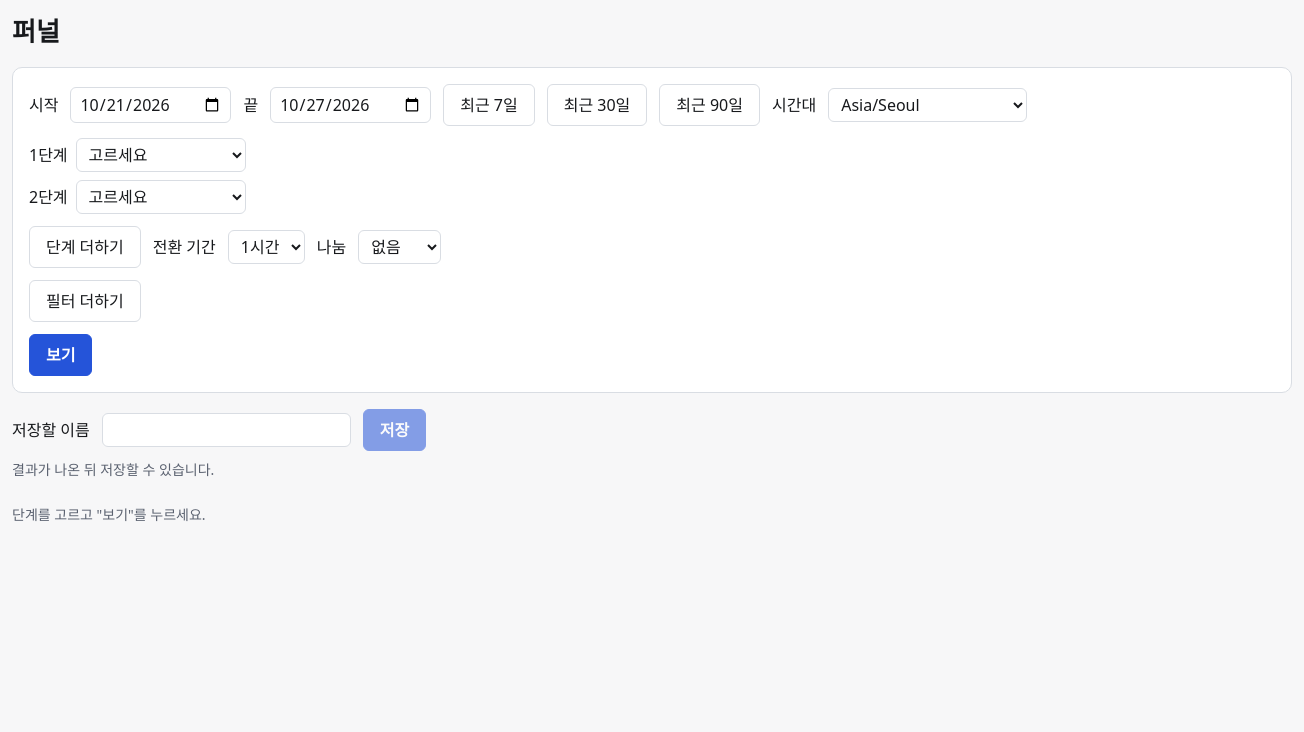
Test: FunnelsPage › 고른 단계·전환 기간을 보내고, 단계별 수와 전환율, 첫 진입 기준 설명, 열린 전환 기간을 보인다
Select "list_viewed" in the dropdown labelled "1단계". click: (161, 155)
box: top-left (76, 138), bottom-right (246, 172)
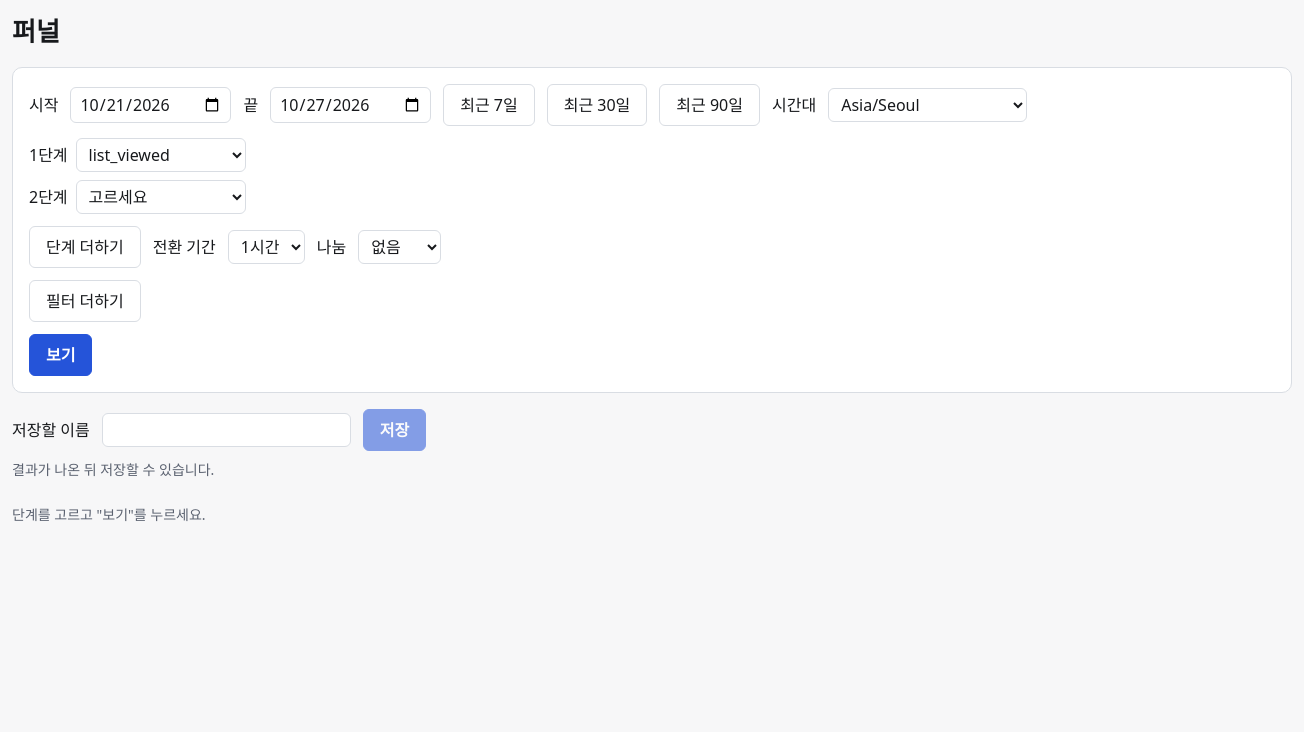
Select "seat_map_viewed" in the dropdown labelled "2단계". click: (161, 197)
box: top-left (76, 180), bottom-right (246, 214)
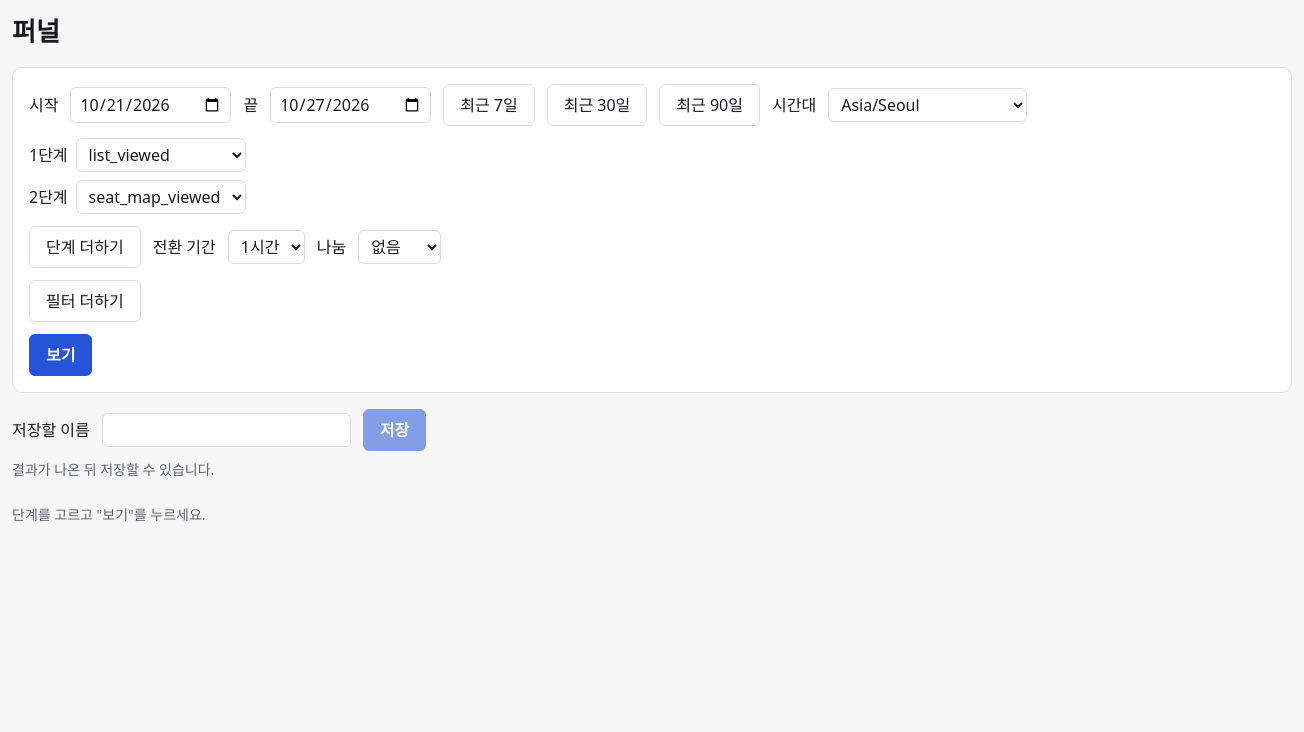
Select "1일" in the dropdown labelled "전환 기간". click: (266, 247)
box: top-left (228, 230), bottom-right (305, 264)
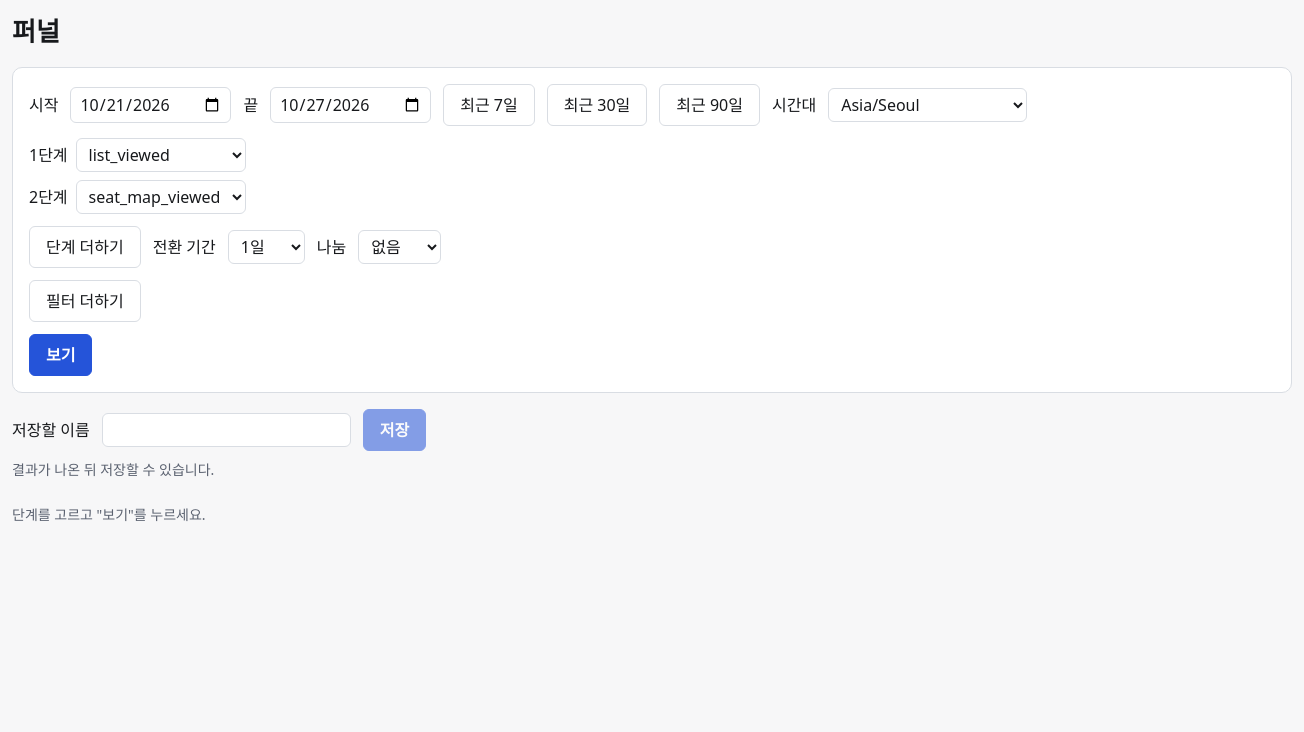
Click the button "보기". click: (61, 355)
box: top-left (29, 334), bottom-right (92, 376)
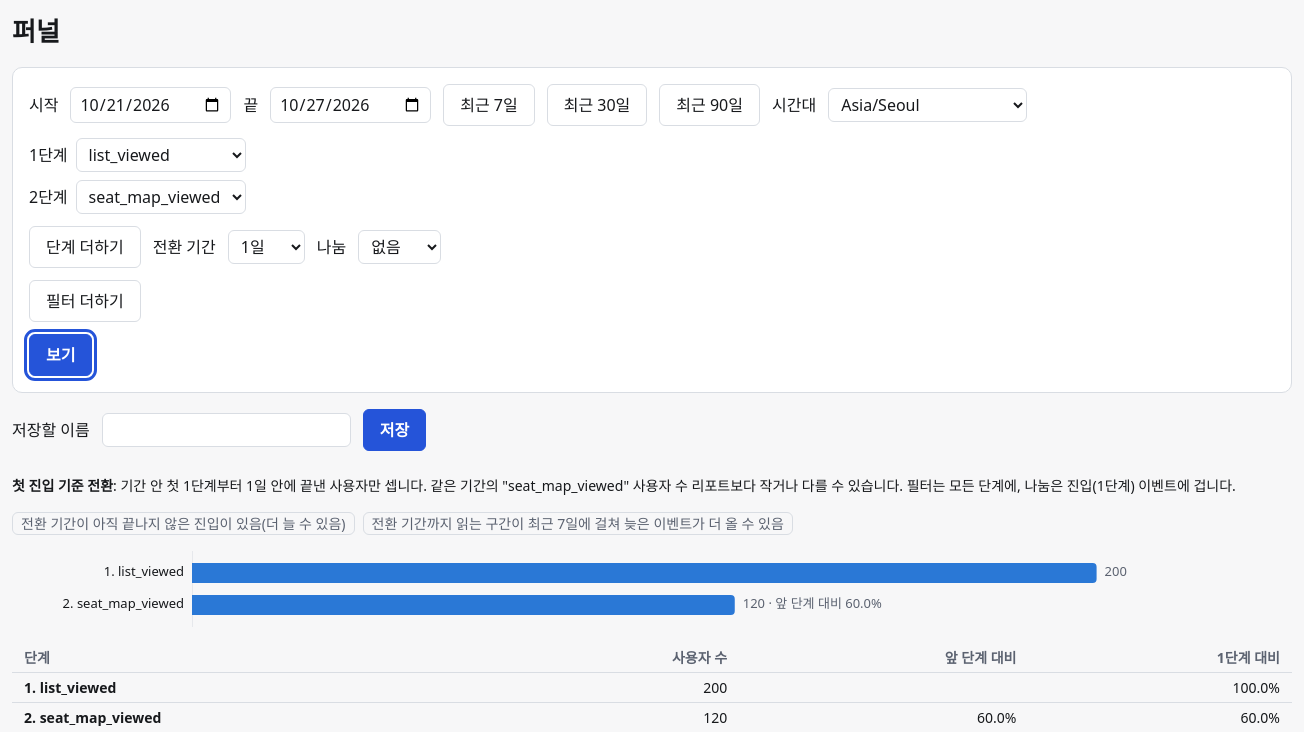
Check: the rows read "단계사용자 수앞 단계 대비1단계 대비", "1. list_viewed200100.0%", "2. seat_map_viewed12060.0%60.0%", in this order, box top-left (12, 643), bottom-right (1292, 672); top-left (12, 673), bottom-right (1292, 702); top-left (12, 702), bottom-right (1292, 731)
Check: the text "첫 진입 기준 전환" is shown, box top-left (12, 476), bottom-right (113, 495)
Check: the text "\"seat_map_viewed\" 사용자 수 리포트보다" is shown, box top-left (12, 475), bottom-right (1292, 496)
